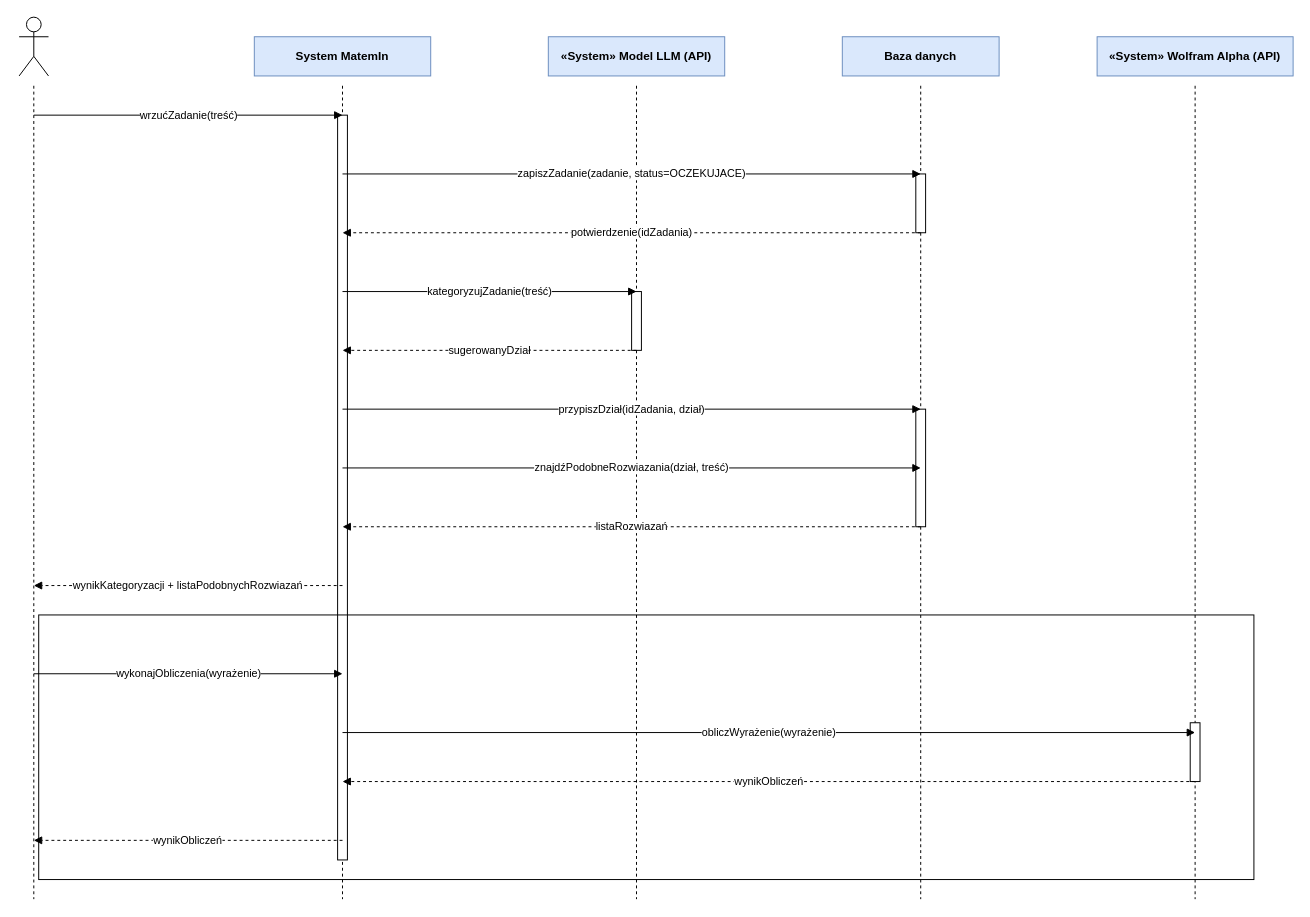
This 1310x917 diagram has some shape labels left out. Each missing label, with the centre of its shape:
"opt [uczeń chce wykonać obliczenia]" goes at (646,747).
"Uczeń" goes at (33,46).
